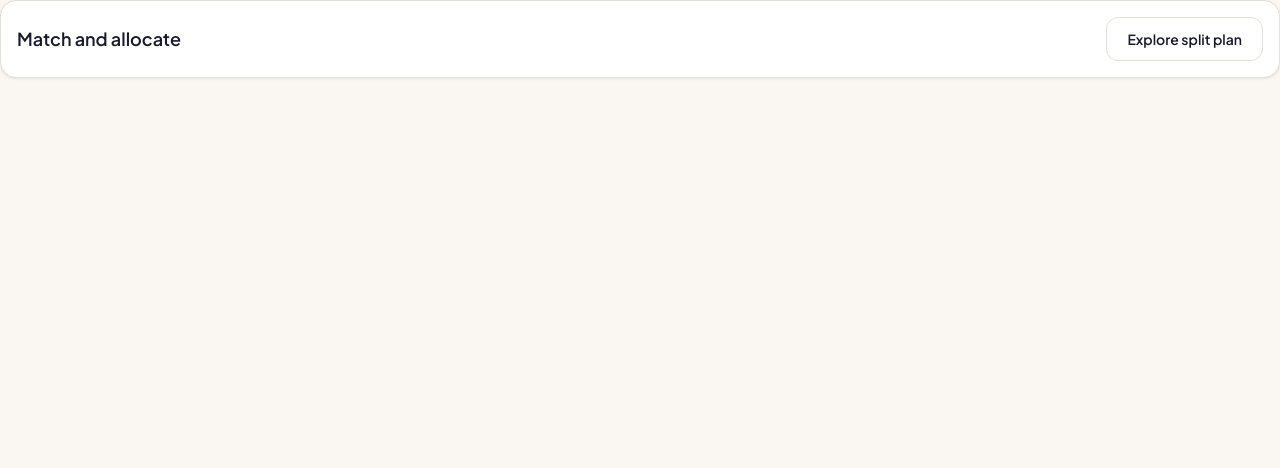
Test: Allocation puzzle controls › sends only checked portions and shows the notification in the plan
Click the button "Explore split plan" at (1185, 39), box [1106, 17, 1263, 61]
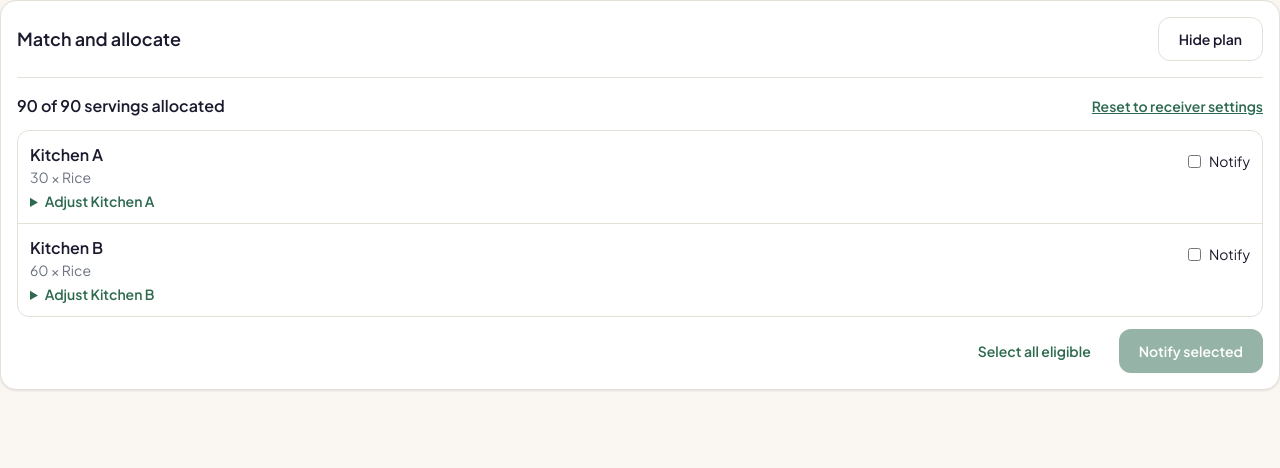
Click the checkbox named "Notify Kitchen B" at (1194, 254), box [1188, 248, 1201, 260]
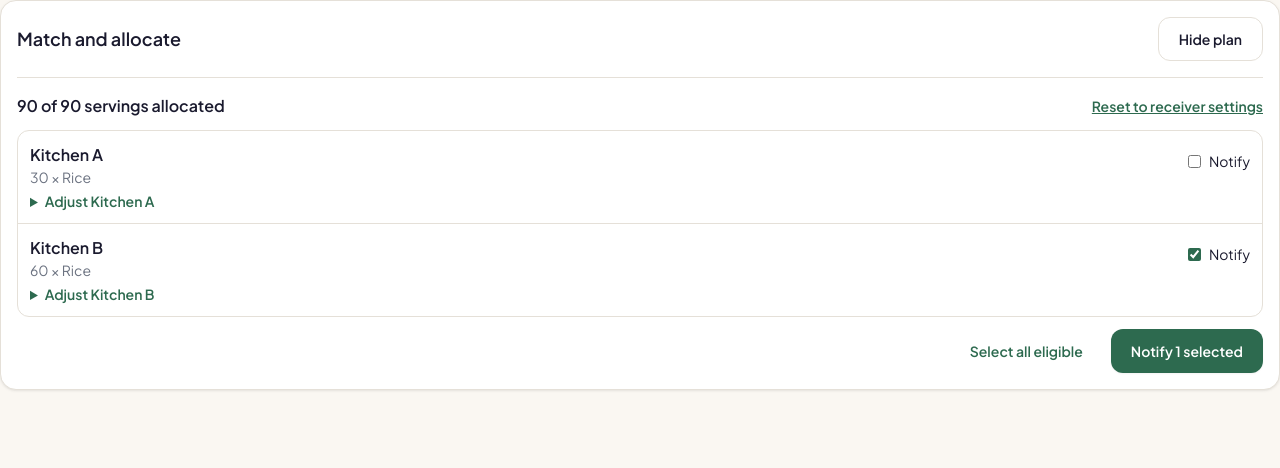
Click the button "Notify 1 selected" at (1187, 351), box [1111, 329, 1263, 373]
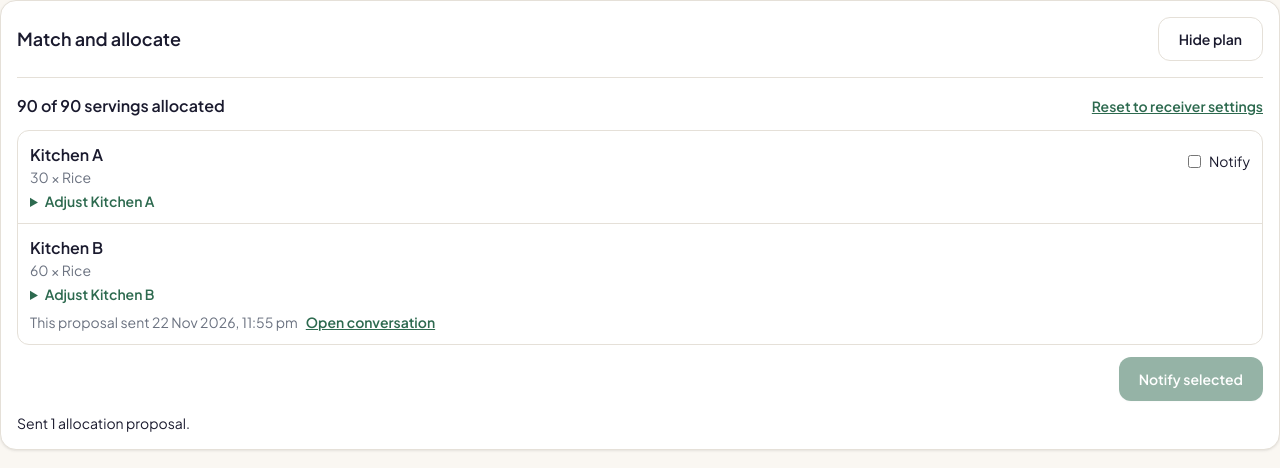
Result: the text "Sent 1 allocation proposal." is shown at [17, 414, 190, 432]
